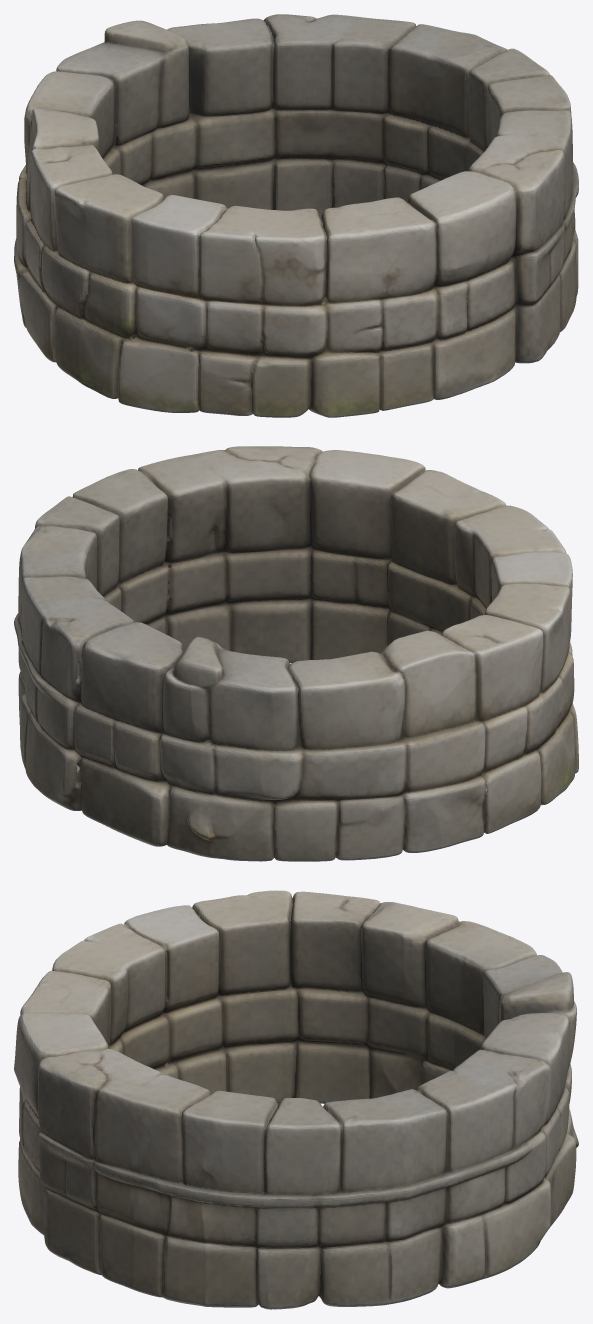
Rendered from marketplace_well.glb.
The picture shows the model from 3 angles, top to bottom: view 1: azimuth 30°, elevation 25°; view 2: azimuth 150°, elevation 25°; view 3: azimuth 270°, elevation 25°; orthographic projection.
Visible parts, largest first — view 1: world; view 2: world; view 3: world.
Part boxes in pixels (x1,y1,x2,y2): world: (14, 14, 578, 417); world: (14, 446, 578, 861); world: (14, 890, 578, 1309).
Size of the model in its own units: 0.993 by 0.386 by 0.9756.
